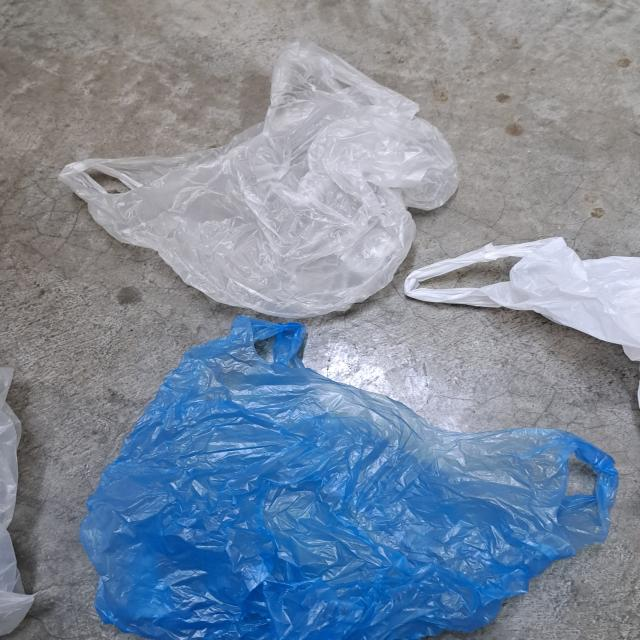plastic bag: (80, 317, 624, 640), (54, 39, 457, 319), (407, 232, 639, 366)
